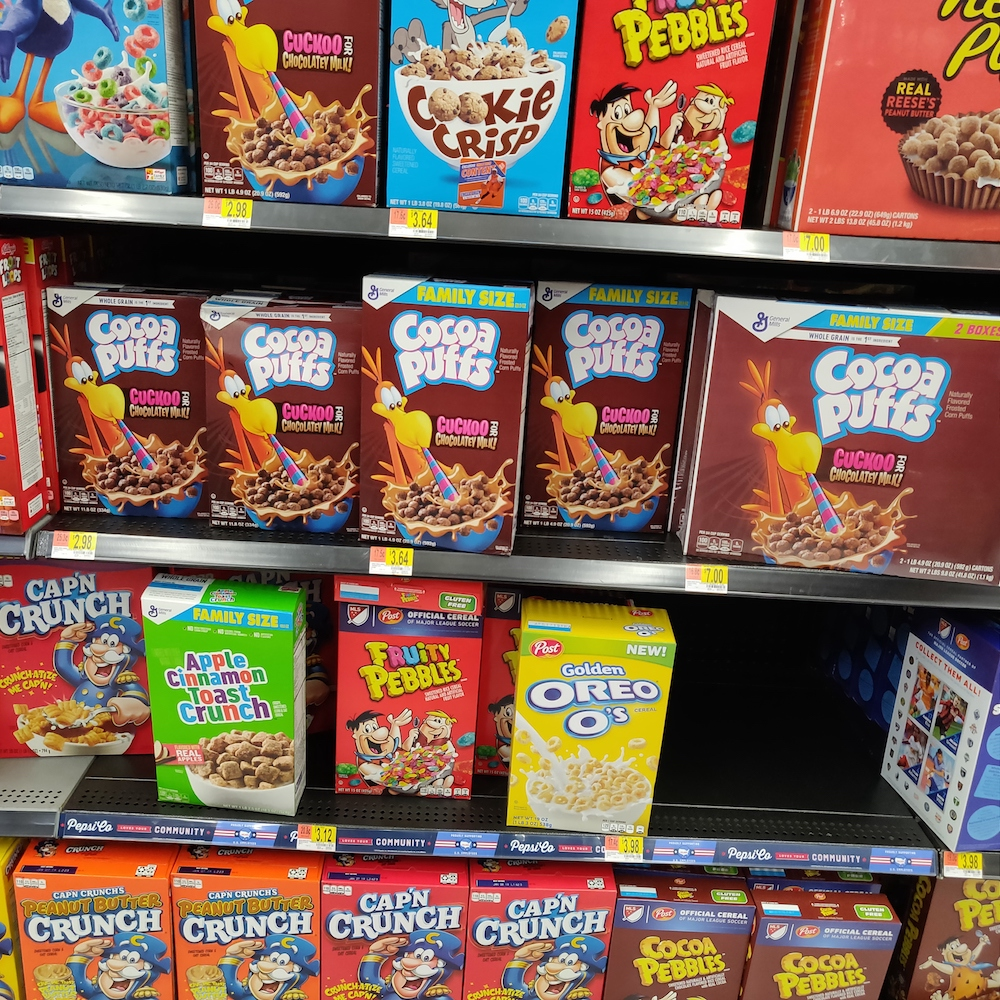Cocoa Pebbles-555517893: (752, 889, 905, 1000), (611, 886, 748, 1000)
Oreo Golden-568301011: (517, 610, 659, 826)
